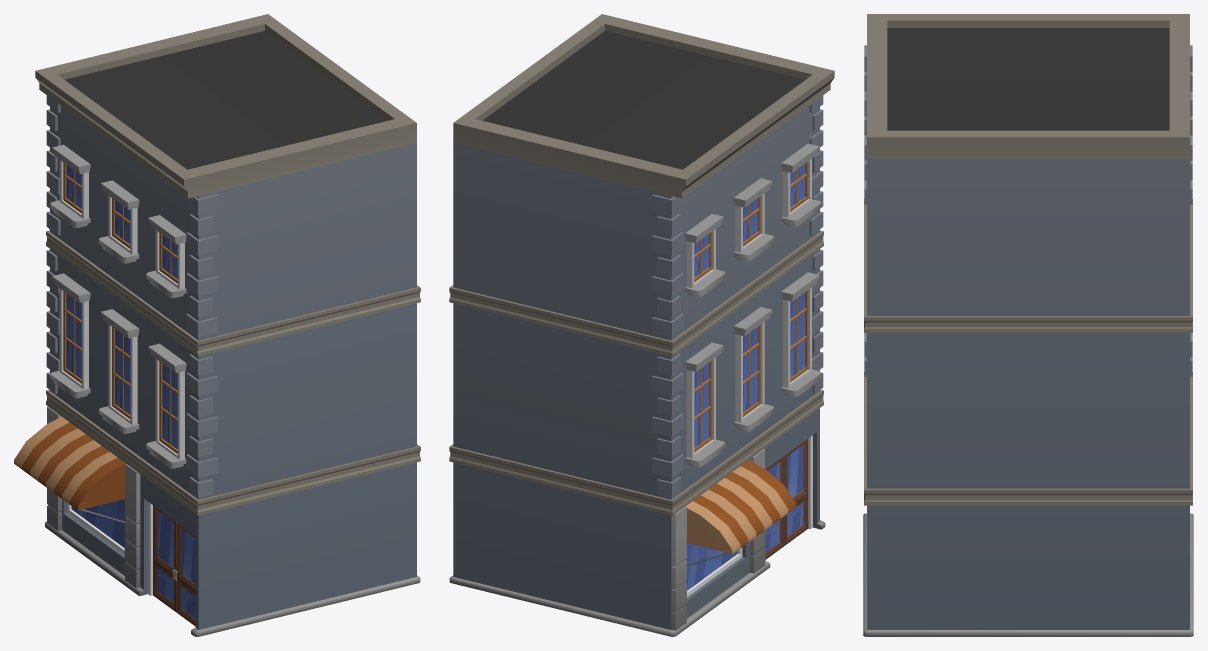
The model's file is Building_8_1_F.fbx.
The picture shows the model from 3 angles, left to right: view 1: azimuth 30°, elevation 25°; view 2: azimuth 150°, elevation 25°; view 3: azimuth 270°, elevation 25°; orthographic projection. The views are drawn at different scales.
Parts seen in each view (by area): view 1: Building 8_1_F; view 2: Building 8_1_F; view 3: Building 8_1_F.
Boxes of the visible parts, x1=… form: Building 8_1_F: x1=14, y1=14, x2=420, y2=636; Building 8_1_F: x1=449, y1=14, x2=834, y2=636; Building 8_1_F: x1=863, y1=14, x2=1193, y2=636.
Bounding box in the file's own units: 681 × 1108 × 667.
